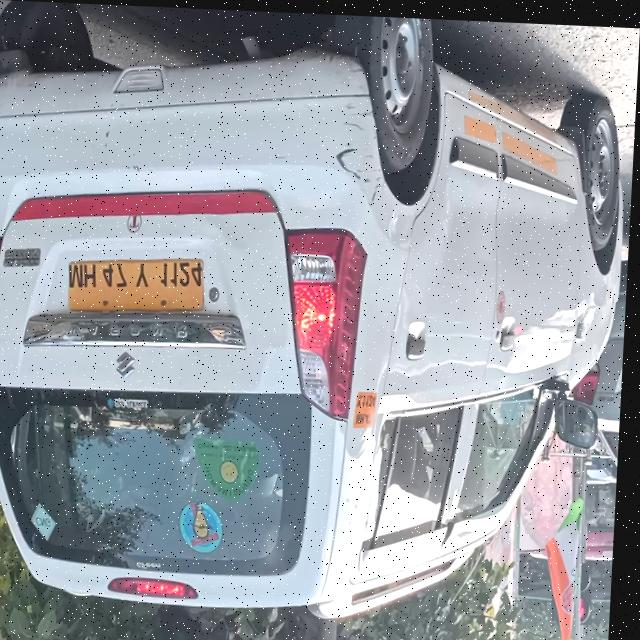plate: (70, 241, 211, 313)
